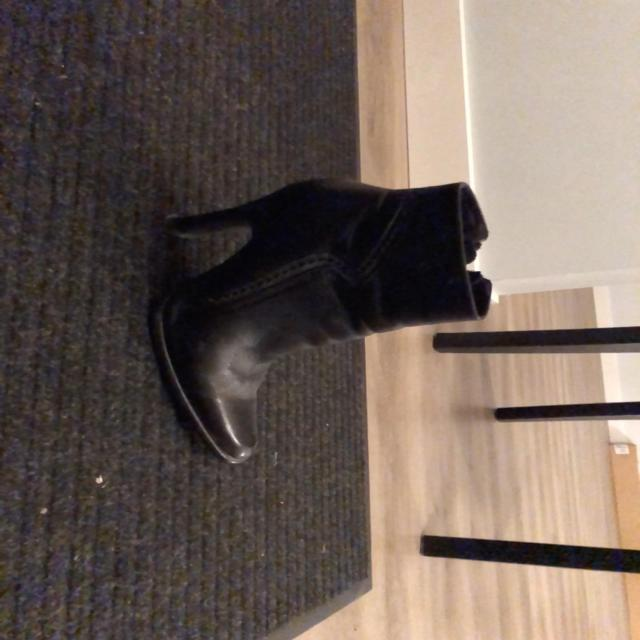shoe: (158, 181, 494, 465)
